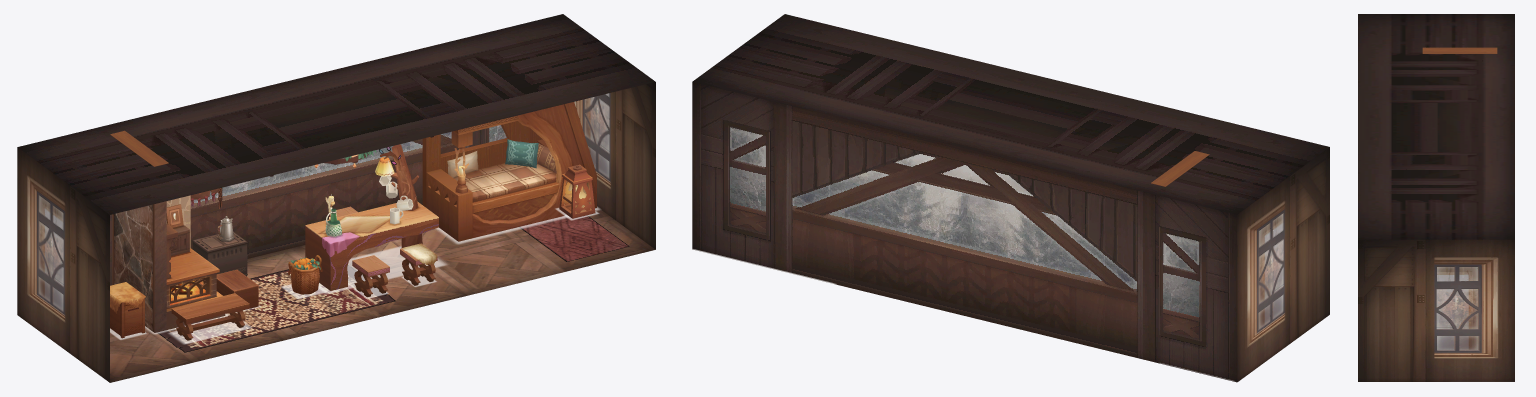
File: samiRoom.glb
3 views of the same model, side by side, from view 1: azimuth 30°, elevation 25°; view 2: azimuth 150°, elevation 25°; view 3: azimuth 270°, elevation 25° (orthographic). The views are drawn at different scales.
Visible parts, largest first — view 1: ROOM_room, ROOM_floor, furni_samiRoom_bed_01, furni_samiRoom_fireplace_01, furni_samiRoom_bar_01, furni_samiRoom_carpet1_01, furni_samiRoom_carpet2_01, furni_samiRoom_longBench_01, furni_samiRoom_stove_01, ROOM_RDoor, ROOM_LDoor, furni_samiRoom_floorLamp2_01 (+9 smaller); view 2: ROOM_room, ROOM_LDoor, furni_samiRoom_fireplace_01; view 3: ROOM_room, ROOM_RDoor, furni_samiRoom_fireplace_01, shadow_01.011.
Part boxes in pixels (x1,y1,x2,y2): ROOM_room: [17, 14, 655, 382]; ROOM_floor: [110, 207, 655, 382]; furni_samiRoom_bed_01: [422, 102, 596, 241]; furni_samiRoom_fireplace_01: [110, 130, 225, 332]; furni_samiRoom_bar_01: [305, 144, 438, 290]; furni_samiRoom_carpet1_01: [157, 265, 395, 352]; furni_samiRoom_carpet2_01: [519, 215, 629, 261]; furni_samiRoom_longBench_01: [171, 293, 249, 340]; furni_samiRoom_stove_01: [192, 216, 247, 276]; ROOM_RDoor: [623, 149, 642, 239]; ROOM_LDoor: [77, 283, 96, 372]; furni_samiRoom_floorLamp2_01: [559, 164, 595, 218]; ROOM_room: [692, 14, 1329, 382]; ROOM_LDoor: [1297, 248, 1316, 338]; furni_samiRoom_fireplace_01: [1151, 151, 1209, 186]; ROOM_room: [1358, 14, 1514, 381]; ROOM_RDoor: [1381, 317, 1413, 381]; furni_samiRoom_fireplace_01: [1422, 47, 1497, 53]; shadow_01.011: [1515, 321, 1518, 380].
Size of the model in its own units: 7.56 by 2.21 by 2.3.
Materials: 7 (7 with a texture image).
